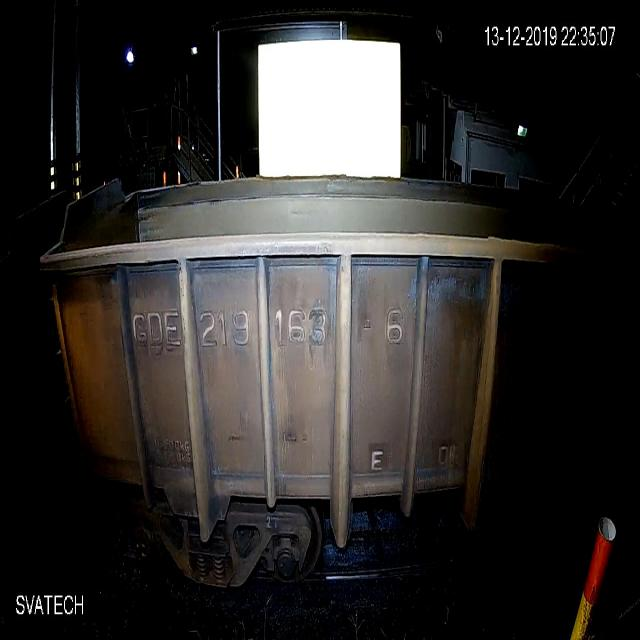gondola: (29, 154, 618, 604)
